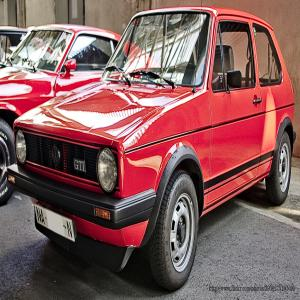Vehicle-registration-plate: (35, 205, 76, 244)
